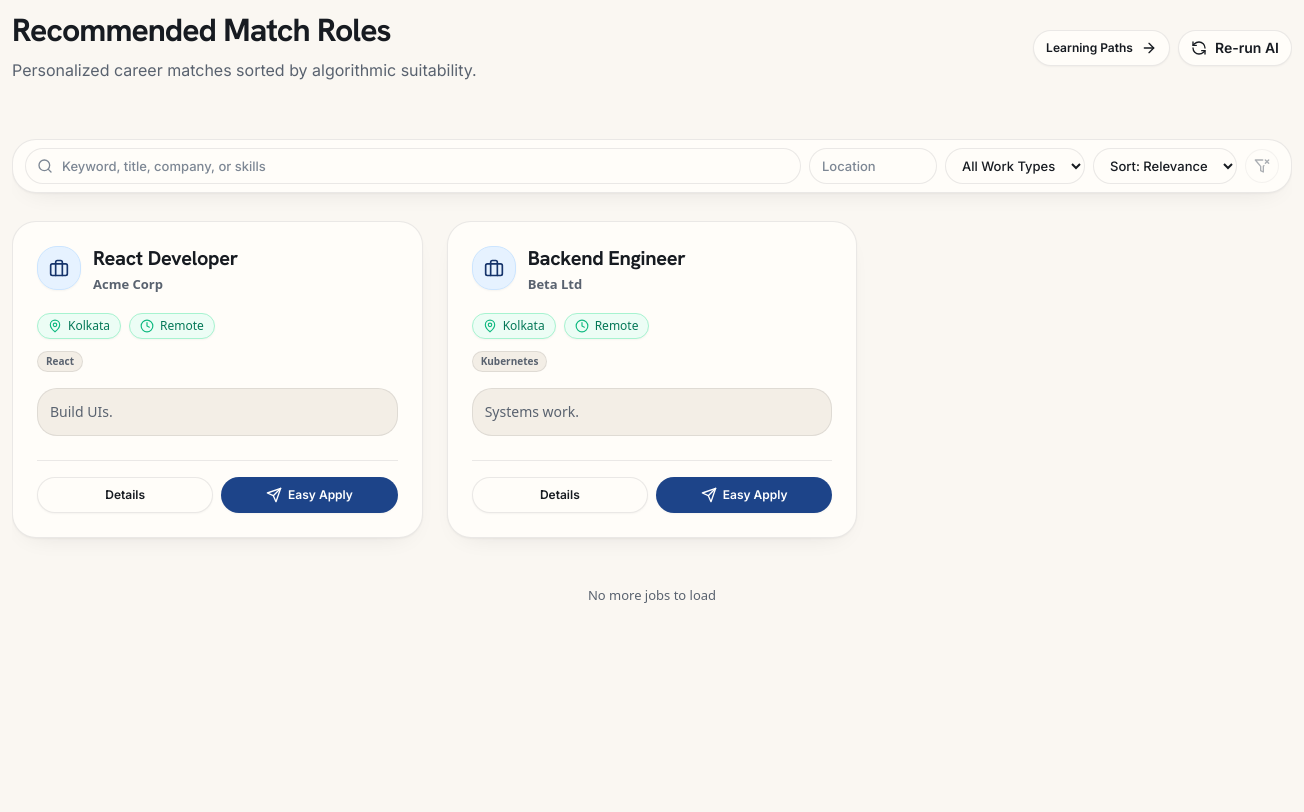
Test case: JobsPage — job listing & application contract › matches a keyword against ex-title and ex-skill content identically to the old split fields (union)
Expected: the heading "React Developer" is shown, left=93, top=245, right=238, bottom=271
Expected: the heading "Backend Engineer" is shown, left=528, top=245, right=686, bottom=271
# Ex-`q` behavior: title hit narrows to the React job.
In the field named "keyword search": {"x": 413, "y": 166} left=25, top=148, right=801, bottom=184, type "react"
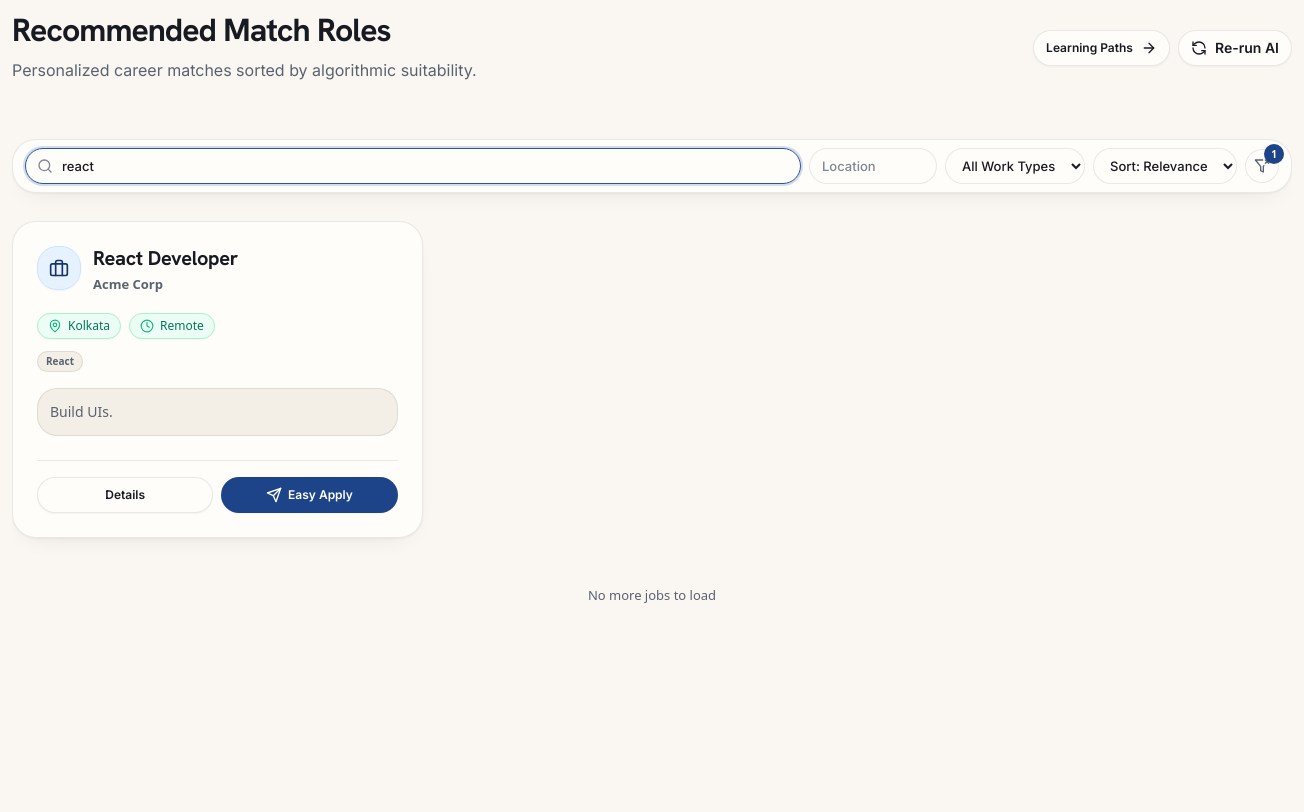
Expected: the heading "React Developer" is shown, left=93, top=245, right=238, bottom=271
Expected: the heading "Backend Engineer" is gone
Expected: the text with test id "filter-count-badge" reads "1", left=1271, top=147, right=1277, bottom=161
Replace the text in the field named "keyword search" with "kubernetes": {"x": 413, "y": 166} left=25, top=148, right=801, bottom=184
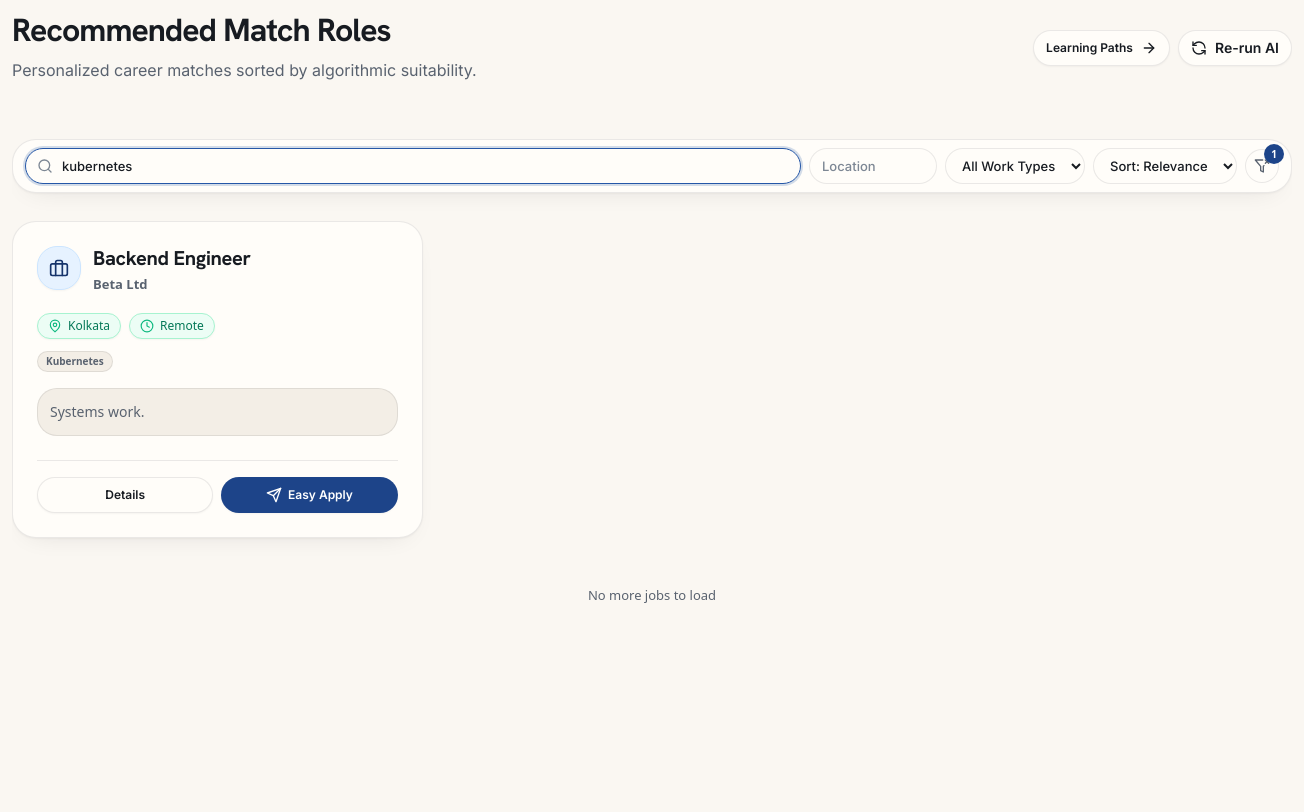
Expected: the text with test id "filter-count-badge" reads "1", left=1271, top=147, right=1277, bottom=161
Expected: the heading "Backend Engineer" is shown, left=93, top=245, right=251, bottom=271
Expected: the heading "React Developer" is gone
# Reset clears the keyword and restores both jobs.
Click the button named "Reset filters": {"x": 1262, "y": 166} left=1245, top=149, right=1279, bottom=183
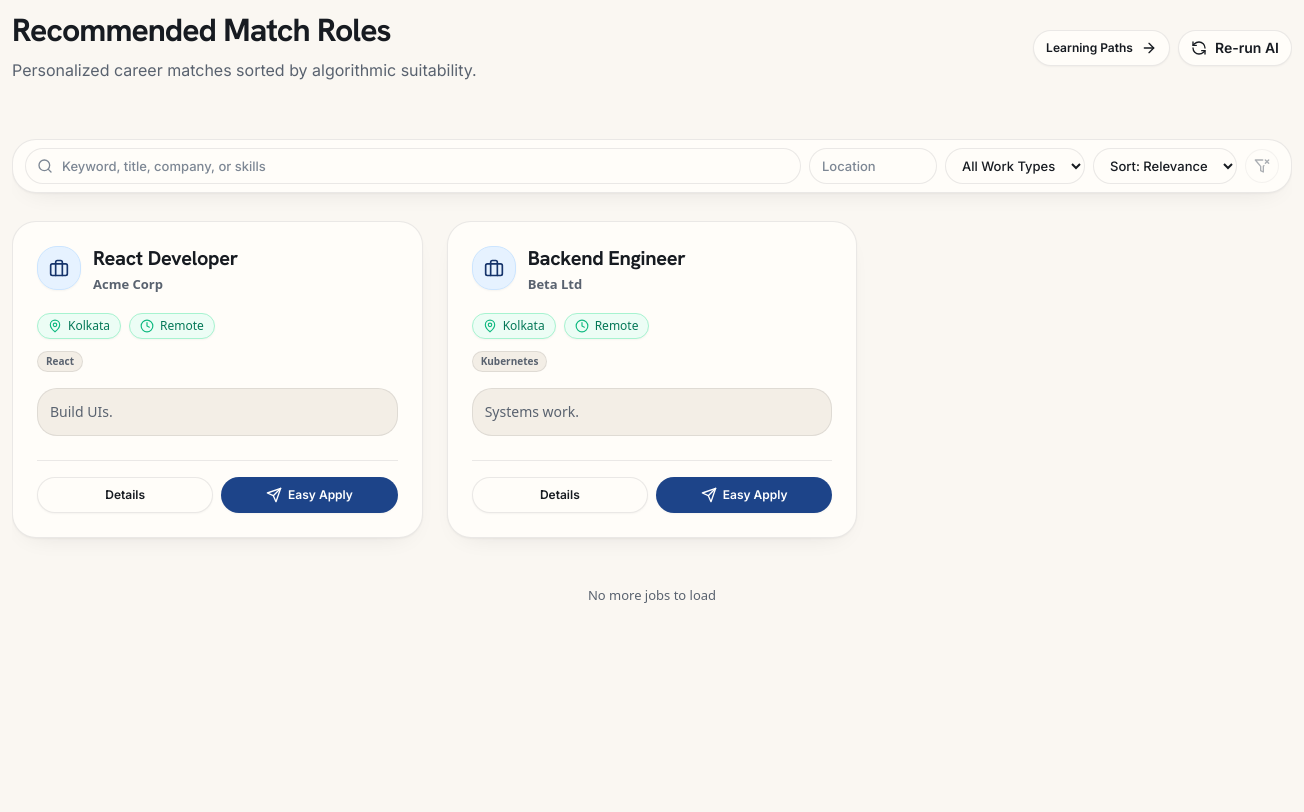
Expected: the heading "Backend Engineer" is shown, left=528, top=245, right=686, bottom=271
Expected: the heading "React Developer" is shown, left=93, top=245, right=238, bottom=271
Expected: the text with test id "filter-count-badge" is gone
